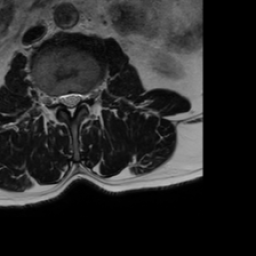CCS_normal: (66, 87, 74, 122)
LFS_stenosis: (84, 84, 93, 111)
LLS_stenosis: (74, 87, 84, 111)
RFS_normal: (52, 87, 58, 112)
RLS_normal: (58, 87, 66, 112)
